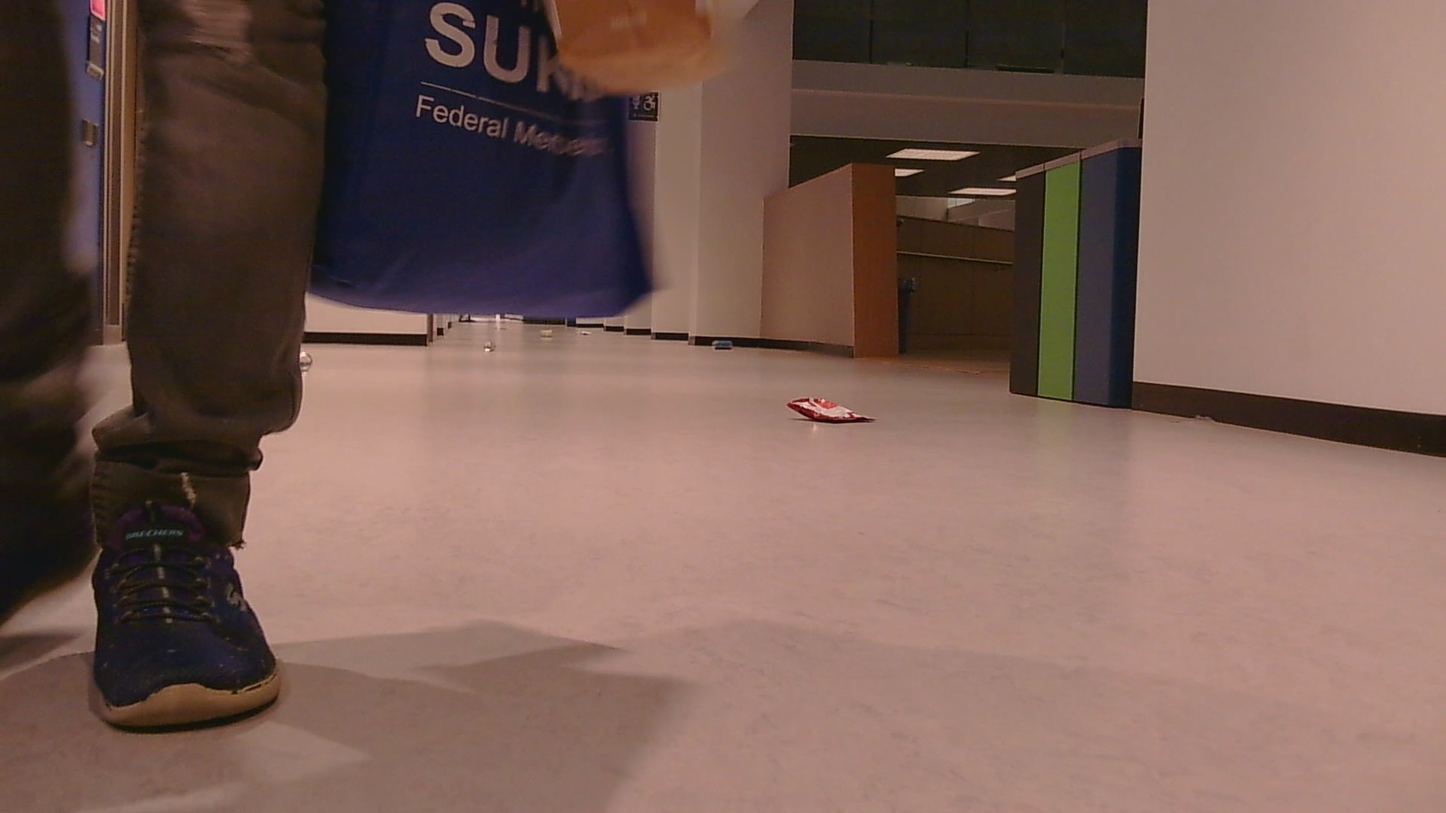carton: (776, 382, 892, 435)
